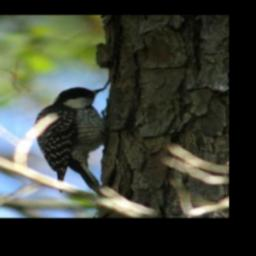Woodpecker: (33, 86, 110, 197)
